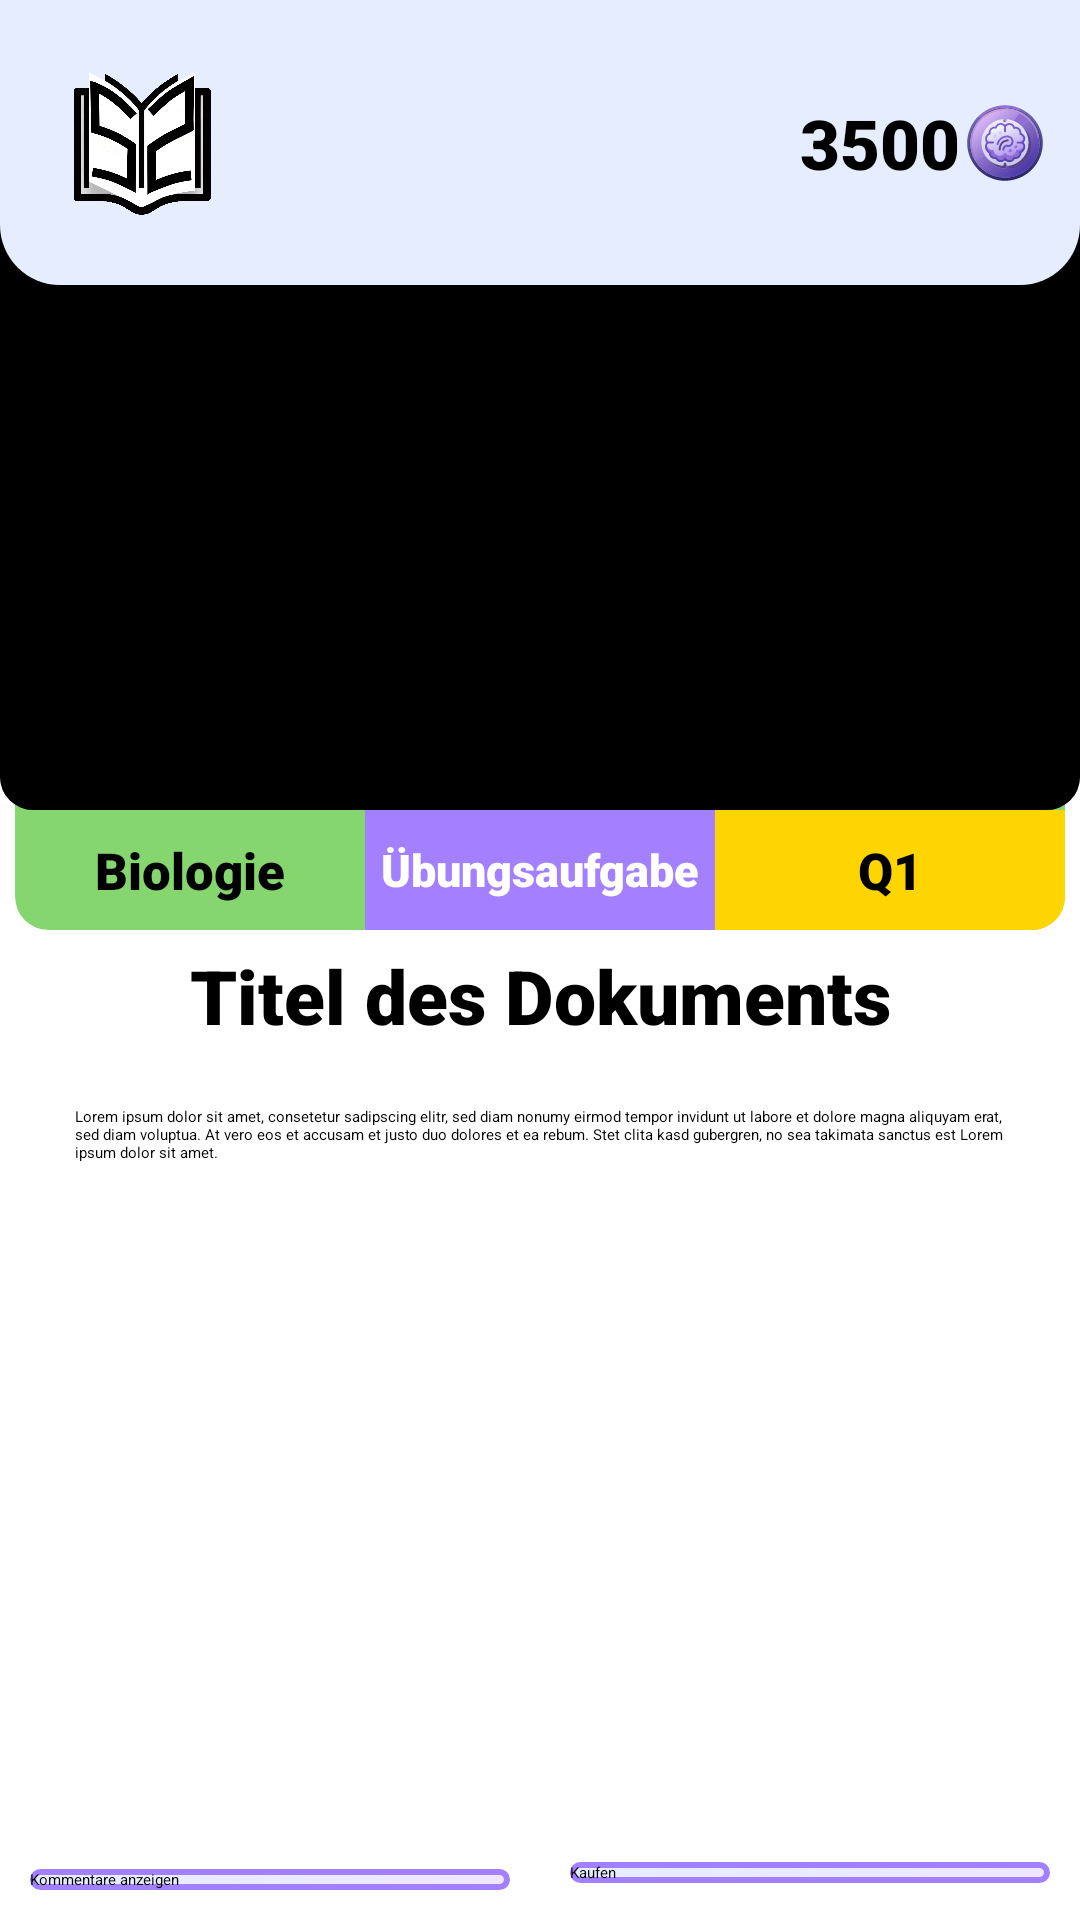

Icons on this 1080w x 1920h Android screen, each with its box as (x1,y1,x2,y2):
coinvector: (967,105,1043,181)
studyshare: (74,74,211,215)
